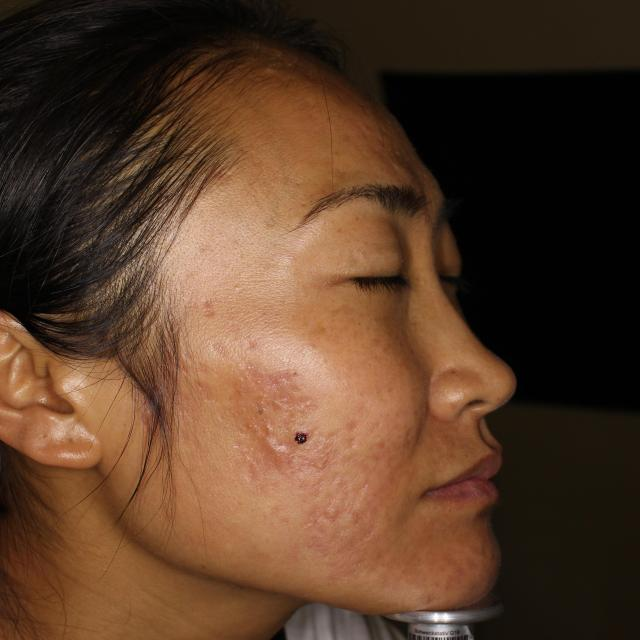acne: (256, 432, 294, 465), (276, 393, 316, 423), (309, 446, 341, 478), (246, 62, 287, 86), (248, 369, 281, 393), (312, 498, 336, 526), (250, 414, 275, 434)
